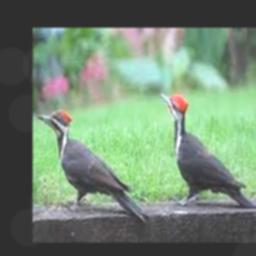Woodpecker: (36, 108, 149, 222), (159, 92, 256, 207)
